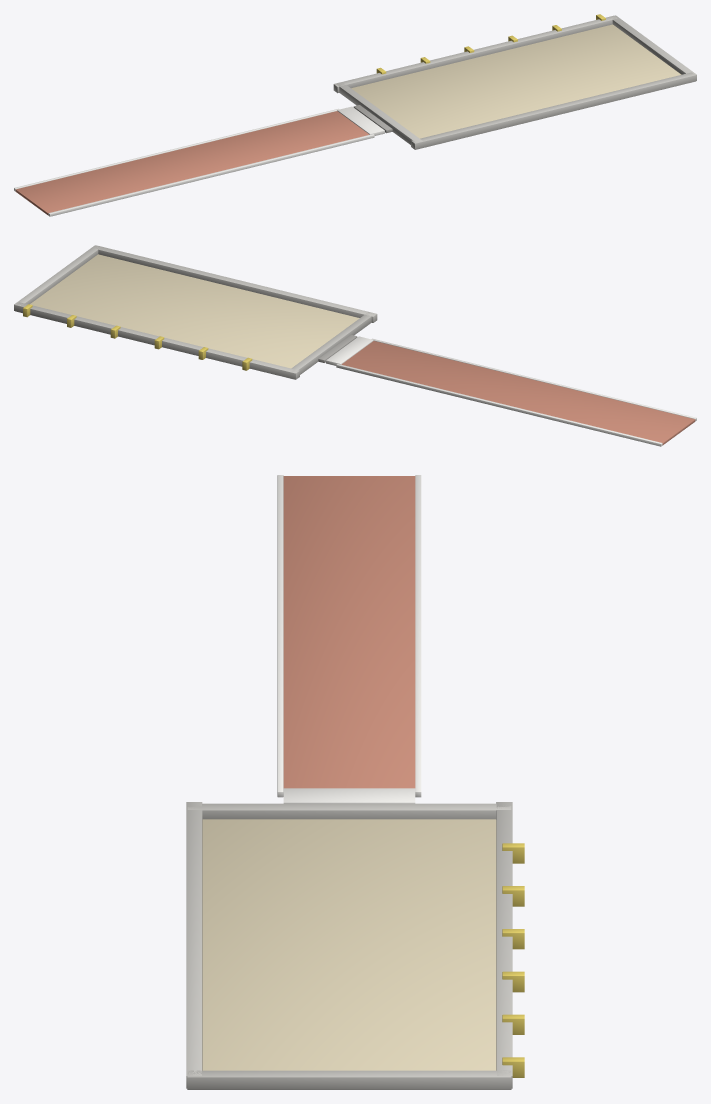
File: th44_sprunganlage.glb
The picture shows the model from 3 angles, top to bottom: view 1: azimuth 30°, elevation 25°; view 2: azimuth 150°, elevation 25°; view 3: azimuth 270°, elevation 25°; orthographic projection. The views are drawn at different scales.
Visible parts, largest first — view 1: Cube.005, Cube, Cube.006, Cube.007, Cube.001, Cube.009, Cube.008, Cube.002, Cube.003; view 2: Cube.005, Cube, Cube.007, Cube.006, Cube.002, Cube.009, Cube.008, Cube.001, Cube.003; view 3: Cube.005, Cube, Cube.008, Cube.009, Cube.006, Cube.007, Cube.002, Cube.001, Cube.003.
Boxes of the visible parts, left/top/right/bottom form: Cube.005: left=351, top=24, right=681, bottom=138; Cube: left=15, top=111, right=369, bottom=215; Cube.006: left=411, top=72, right=695, bottom=149; Cube.007: left=333, top=15, right=617, bottom=93; Cube.001: left=48, top=134, right=374, bottom=216; Cube.009: left=336, top=82, right=422, bottom=144; Cube.008: left=612, top=15, right=696, bottom=80; Cube.002: left=14, top=108, right=339, bottom=191; Cube.003: left=337, top=106, right=384, bottom=135; Cube.005: left=30, top=254, right=359, bottom=368; Cube: left=341, top=341, right=695, bottom=444; Cube.007: left=15, top=302, right=299, bottom=379; Cube.006: left=94, top=245, right=377, bottom=322; Cube.002: left=336, top=364, right=662, bottom=446; Cube.009: left=291, top=312, right=373, bottom=374; Cube.008: left=14, top=245, right=99, bottom=310; Cube.001: left=371, top=338, right=696, bottom=421; Cube.003: left=326, top=336, right=373, bottom=365; Cube.005: left=202, top=819, right=496, bottom=1070; Cube: left=283, top=476, right=415, bottom=788; Cube.008: left=187, top=1070, right=511, bottom=1089; Cube.009: left=187, top=803, right=511, bottom=819; Cube.006: left=186, top=802, right=202, bottom=1088; Cube.007: left=496, top=802, right=512, bottom=1088; Cube.002: left=415, top=475, right=421, bottom=797; Cube.001: left=277, top=475, right=283, bottom=797; Cube.003: left=283, top=788, right=415, bottom=803.
Size of the model in its own units: 14.23 by 0.1805 by 3.34.
